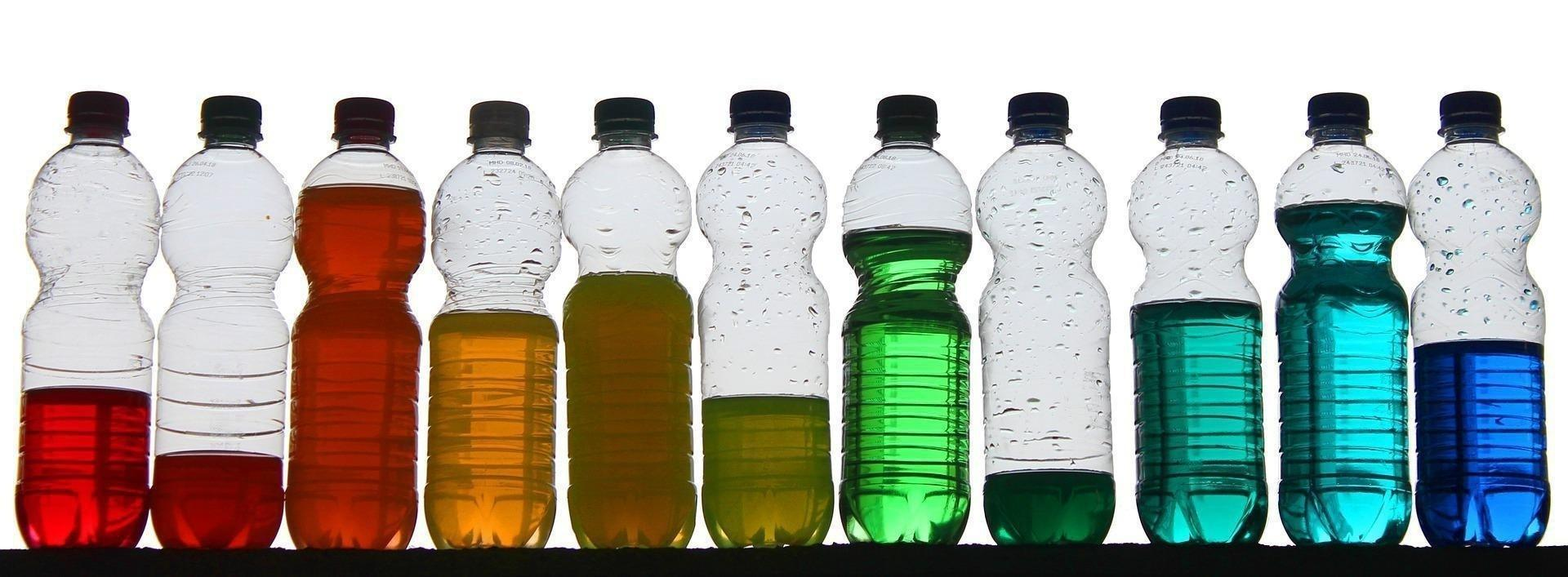bottle-plastic: (1120, 82, 1276, 552), (686, 82, 842, 552), (11, 84, 167, 554), (1396, 84, 1552, 554), (415, 91, 571, 561), (147, 91, 303, 561), (826, 86, 982, 555), (965, 86, 1121, 555), (1263, 88, 1419, 557), (275, 87, 430, 557), (552, 91, 701, 564)
